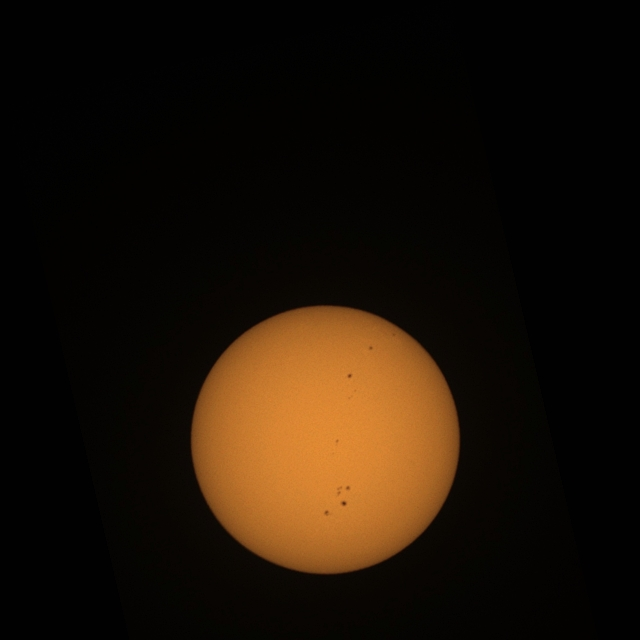sunspot: (335, 485, 351, 502), (340, 499, 348, 507), (324, 509, 330, 516), (347, 373, 353, 379), (392, 331, 397, 337), (368, 345, 373, 351), (335, 439, 340, 444)
